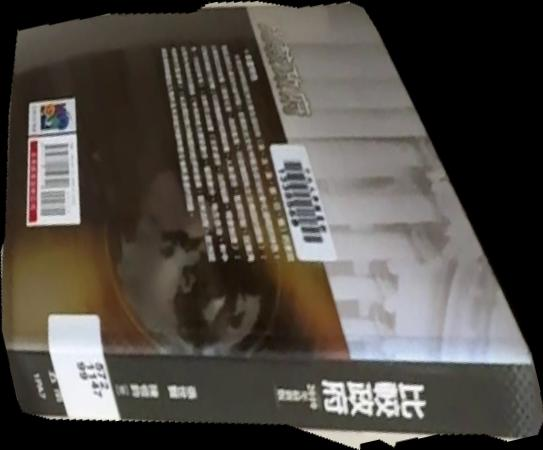flat: (1, 1, 543, 450)
